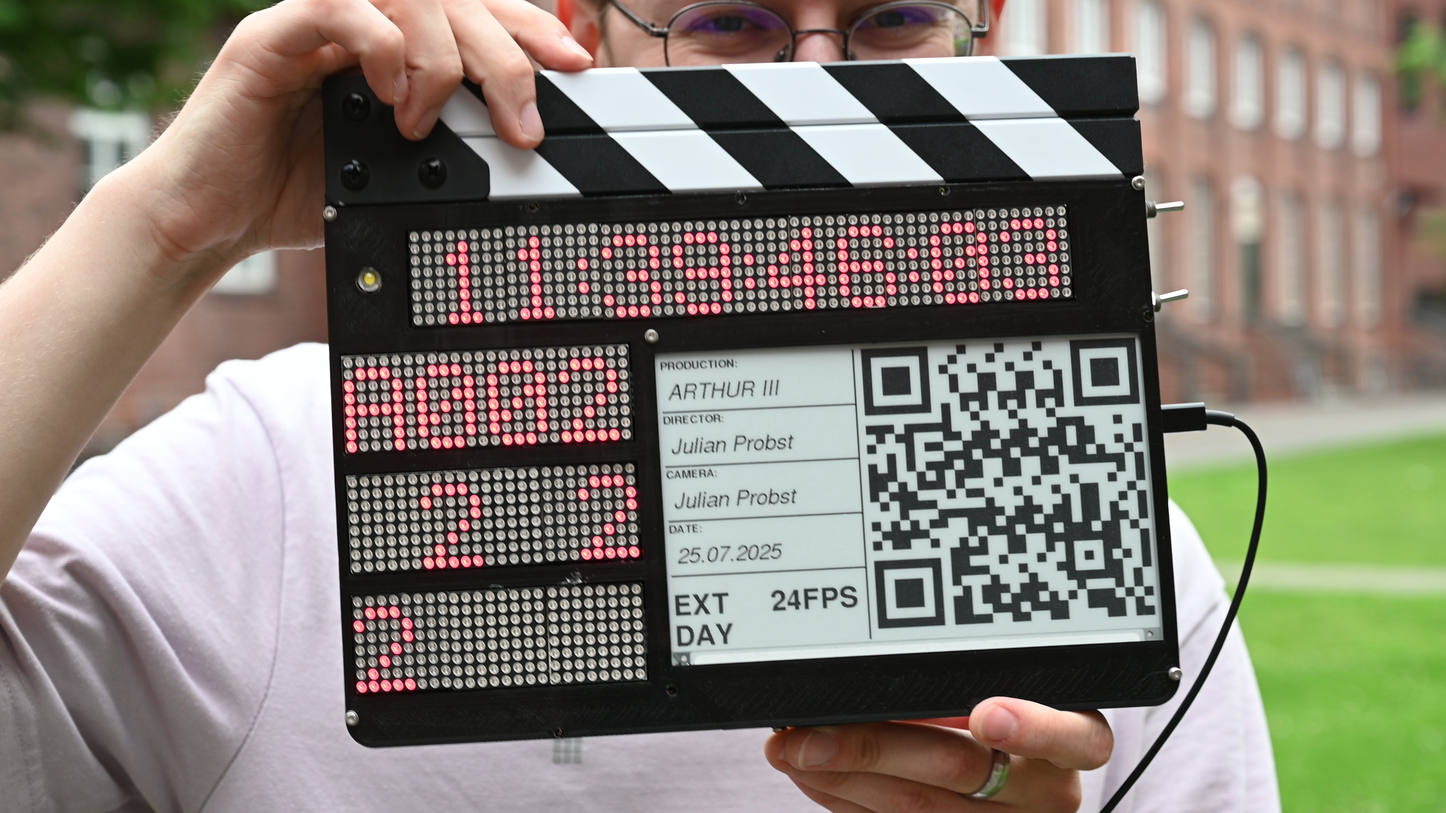ARC-SLATE: (322, 119, 1183, 751)
